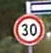limite 30: (11, 13, 45, 44)
